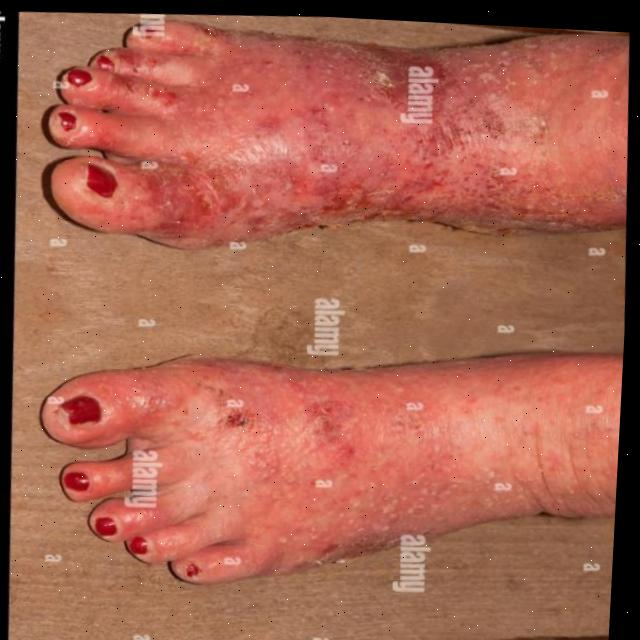Eczema: (69, 12, 550, 241), (92, 359, 500, 565)
